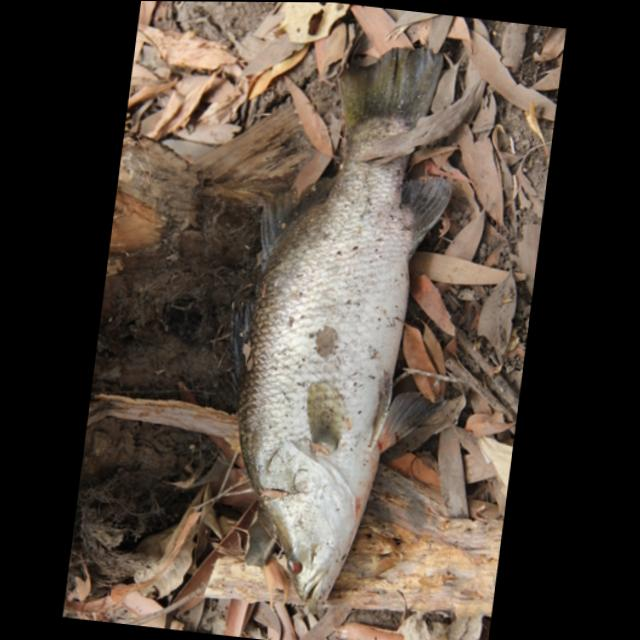Seabass: (198, 28, 481, 612)
